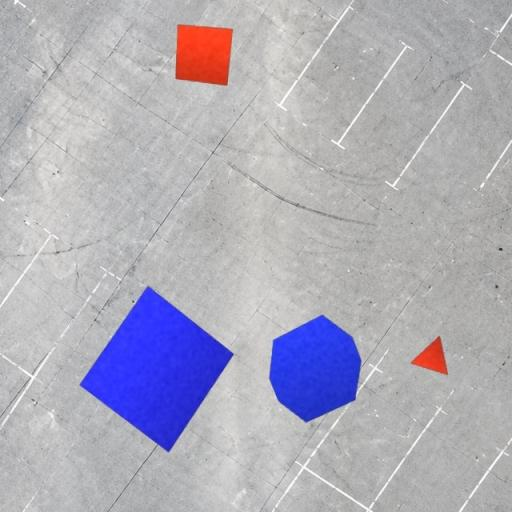BLUE_SQUARE: (78, 284, 234, 454)
RED_SQUARE: (175, 24, 234, 86)
